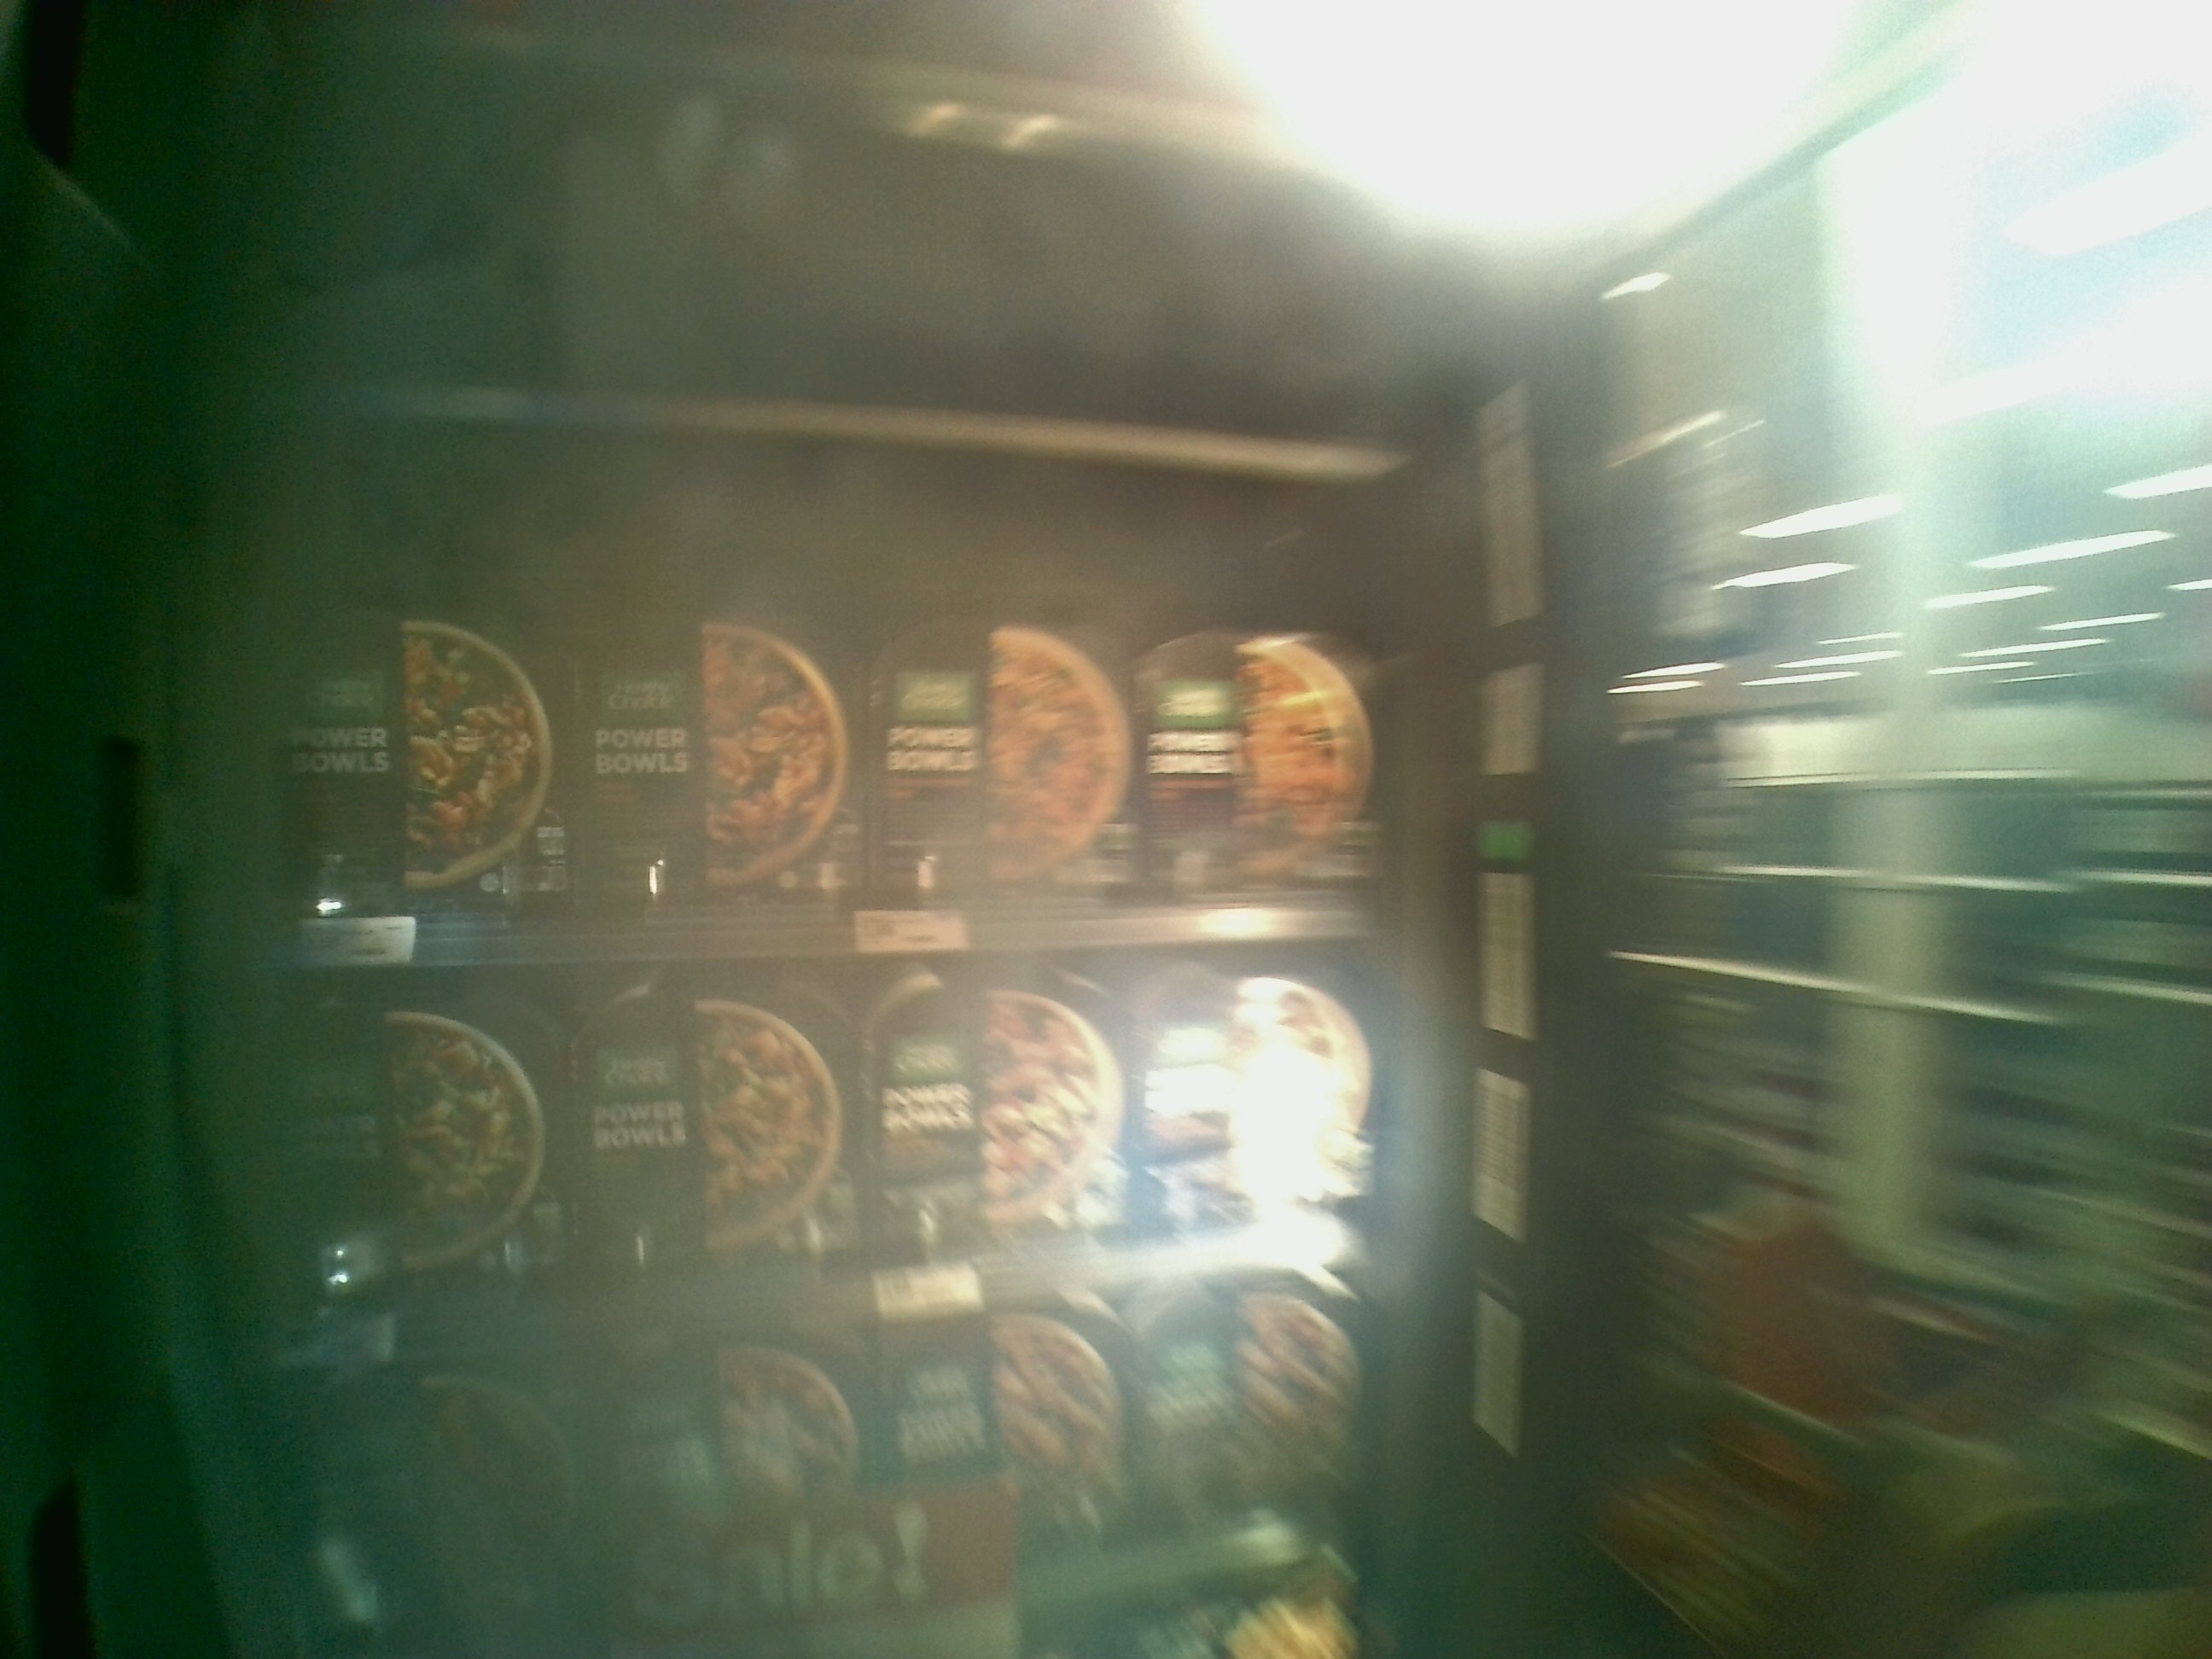shelf: (219, 382, 1381, 962)
